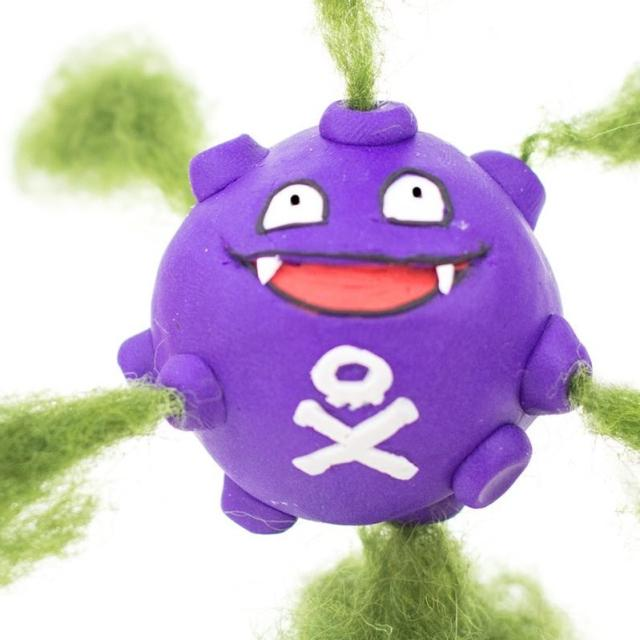Koffing: (121, 97, 598, 536)
